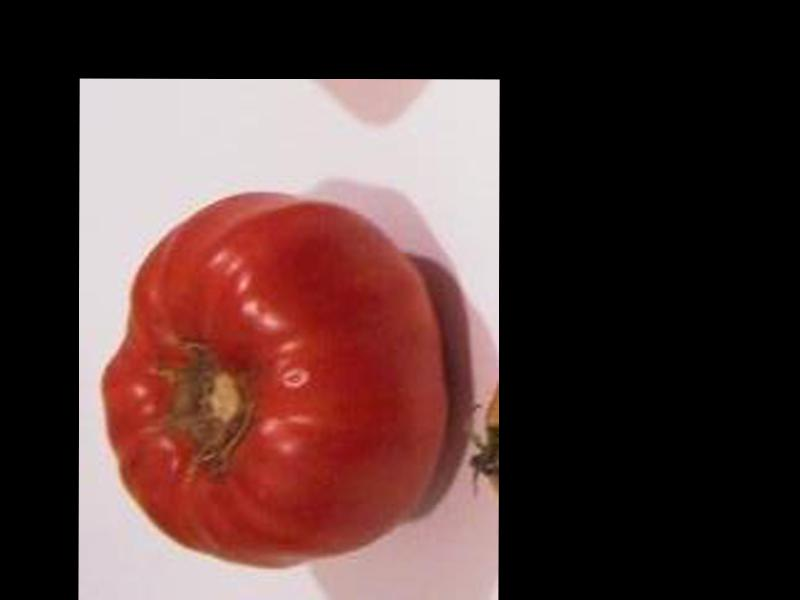Tomato: (103, 196, 442, 566)
